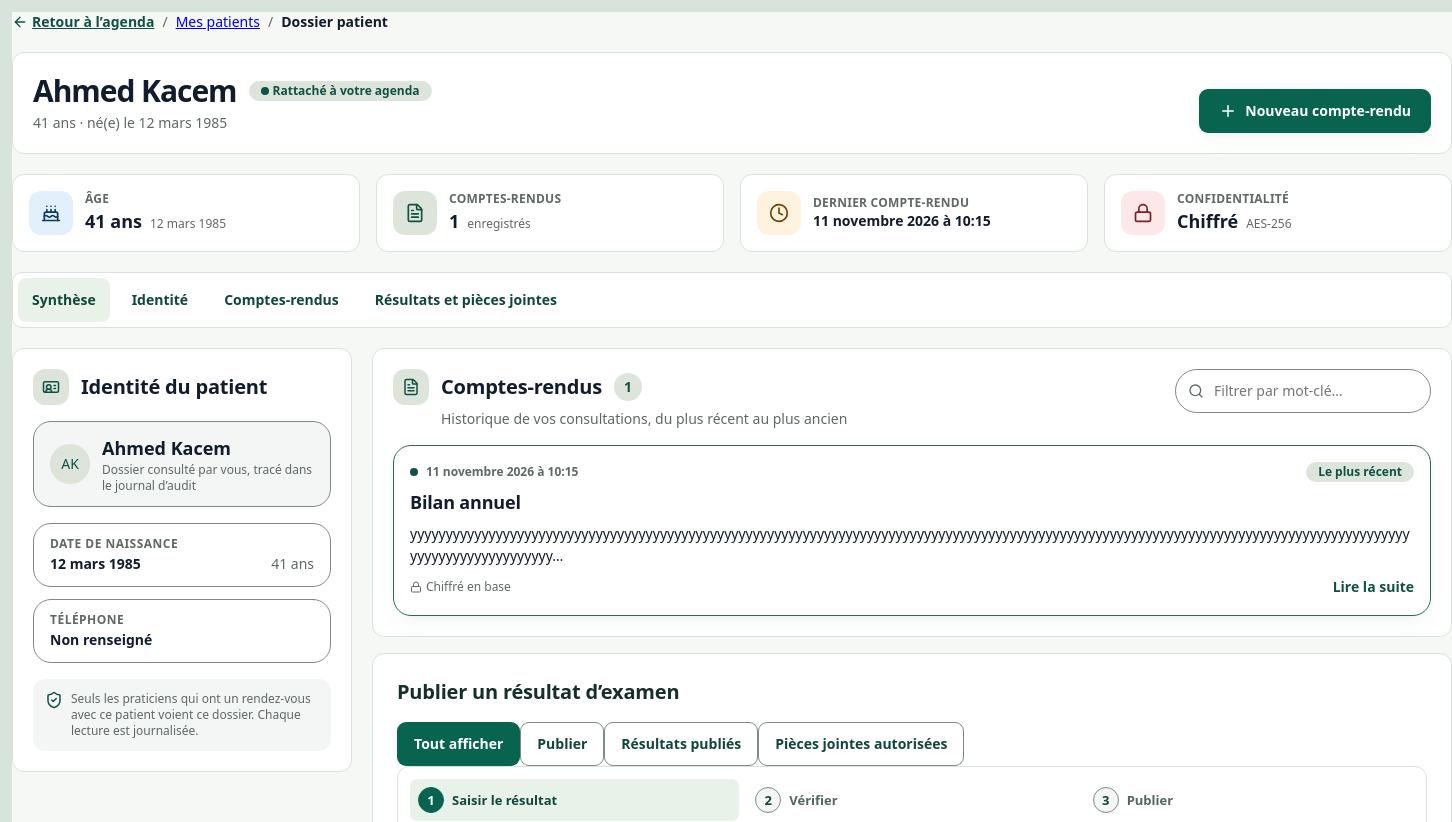
Test case: a long report shows its start; "Lire la suite" opens it whole, "Réduire" folds it again
The image size is (1452, 822).
Later steps or results of the test are not shown.
Click the button "Lire la suite" at (1373, 587), box [1333,575,1414,599]
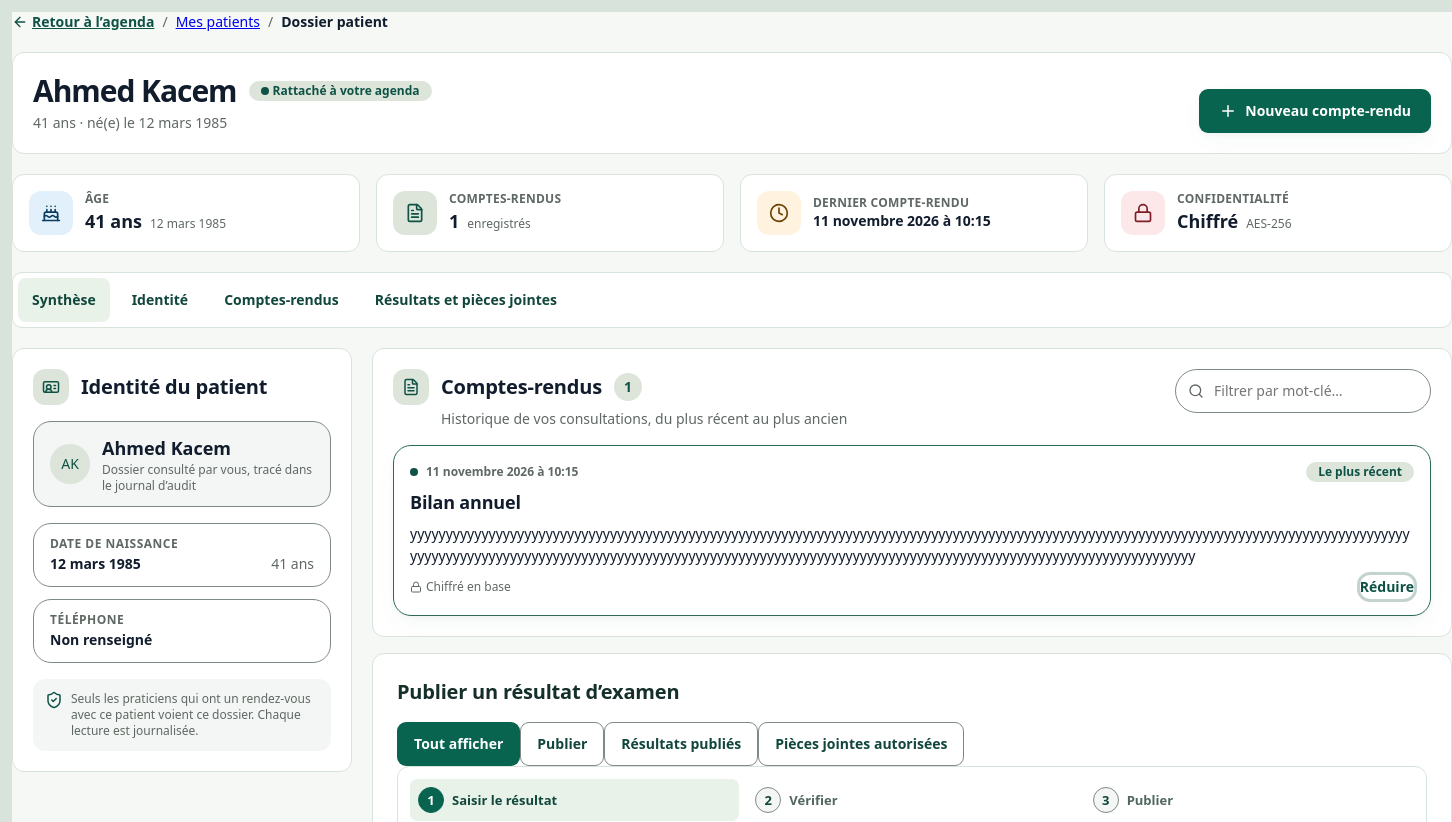
Check: the button "Réduire" is expanded, box [1360,575,1414,599]
